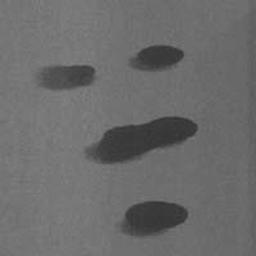Oil spot: (82, 115, 201, 168), (115, 198, 191, 239), (33, 64, 97, 93), (127, 44, 188, 73)
